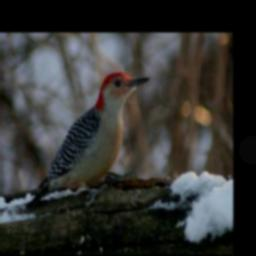Woodpecker: (26, 71, 151, 207)
